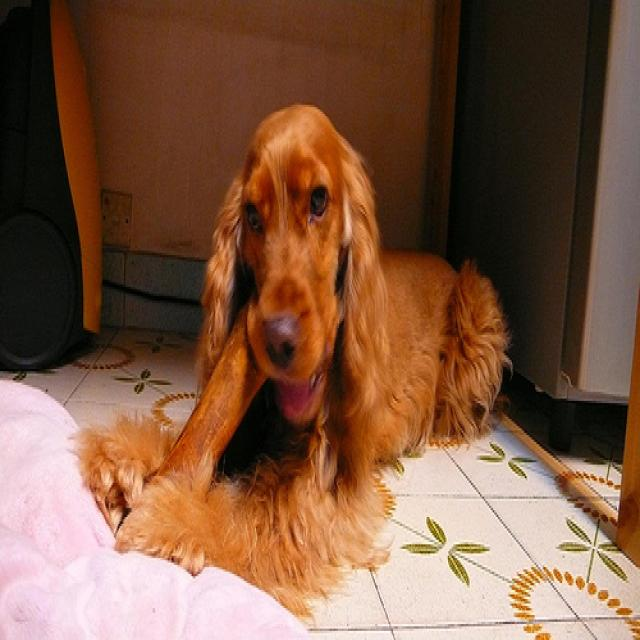dog-english_cocker_spaniel: (70, 93, 509, 620)
